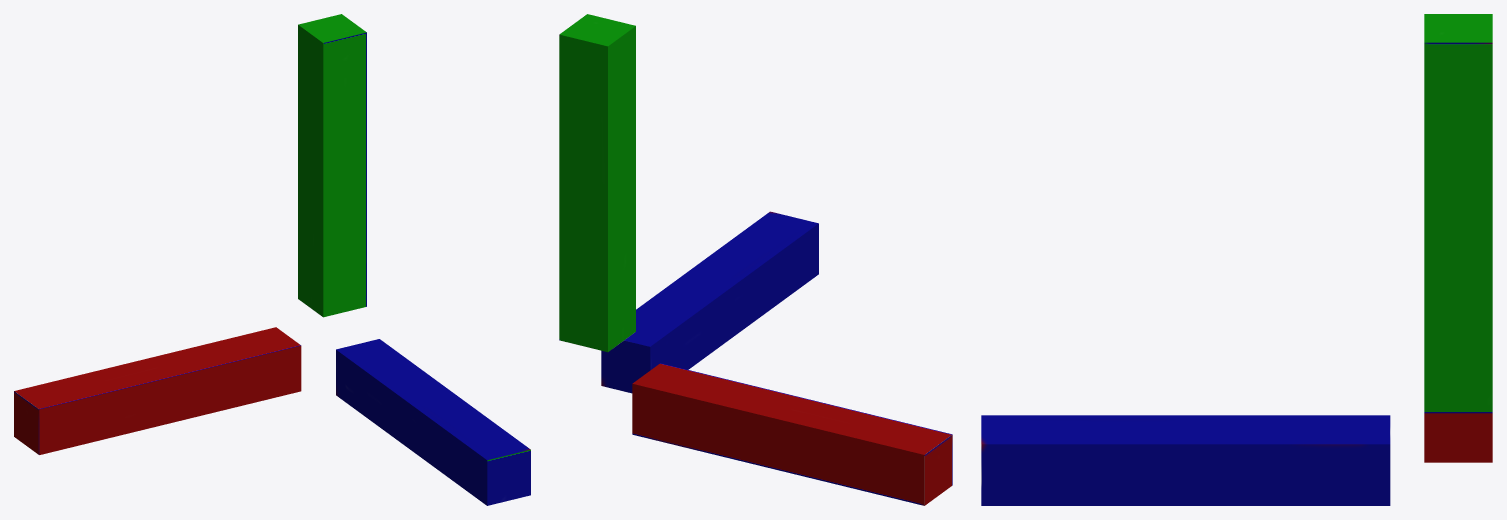
Rendered from emptyAxis.obj.
3 renders of one model, left to right at view 1: azimuth 30°, elevation 25°; view 2: azimuth 150°, elevation 25°; view 3: azimuth 270°, elevation 25°, orthographic. The views are drawn at different scales.
Visible parts, largest first — view 1: Axis; view 2: Axis; view 3: Axis.
Part boxes in pixels (x1=…): Axis: x1=14, y1=14, x2=530, y2=505; Axis: x1=559, y1=14, x2=952, y2=505; Axis: x1=981, y1=14, x2=1492, y2=505.
Size of the model in its own units: 1 by 1 by 1.
Materials: 1 (1 with a texture image).
